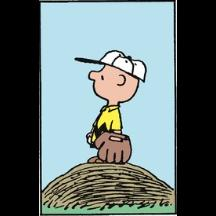charlie: (86, 49, 148, 164)
